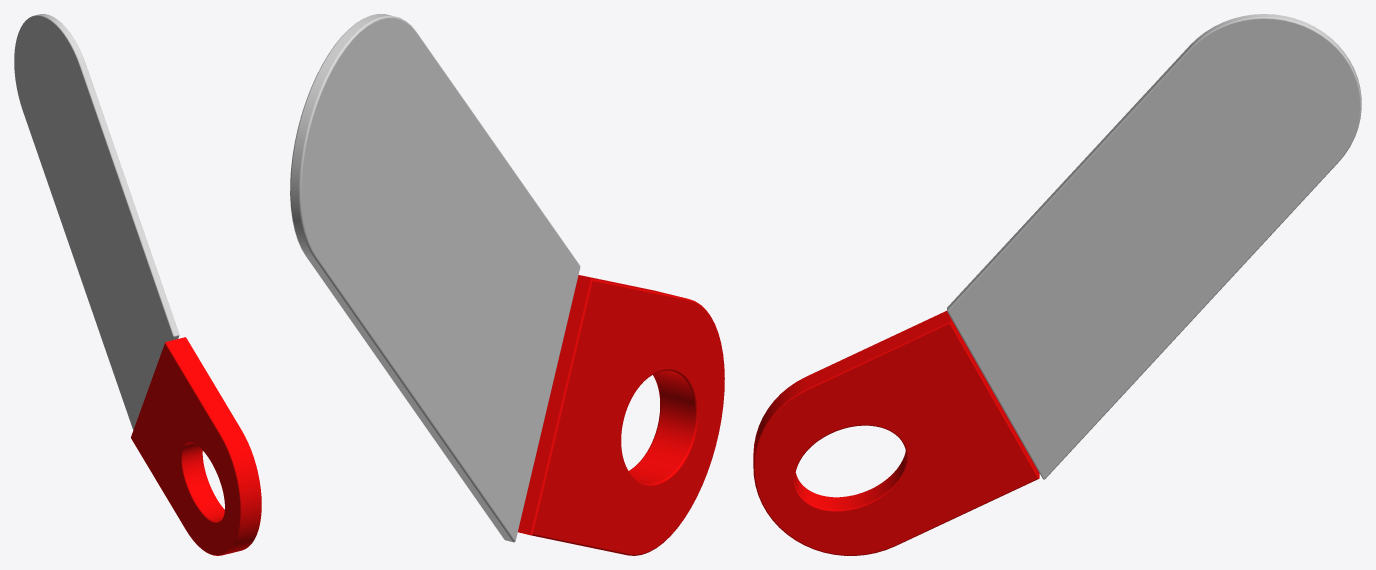
File: HNF361_safety_switch_lever.dae
The picture shows the model from 3 angles, left to right: view 1: azimuth 30°, elevation 25°; view 2: azimuth 150°, elevation 25°; view 3: azimuth 270°, elevation 25°; orthographic projection. The views are drawn at different scales.
Visible parts, largest first — view 1: mesh18, mesh0; view 2: mesh18, mesh0; view 3: mesh18, mesh0.
Part boxes in pixels (x1=…): mesh18: x1=14, y1=14, x2=179, y2=429; mesh0: x1=131, y1=337, x2=261, y2=555; mesh18: x1=290, y1=14, x2=580, y2=542; mesh0: x1=518, y1=275, x2=724, y2=555; mesh18: x1=947, y1=14, x2=1361, y2=479; mesh0: x1=753, y1=310, x2=1039, y2=555.
Bounding box in the file's own units: 0.01 × 0.1873 × 0.1815.
